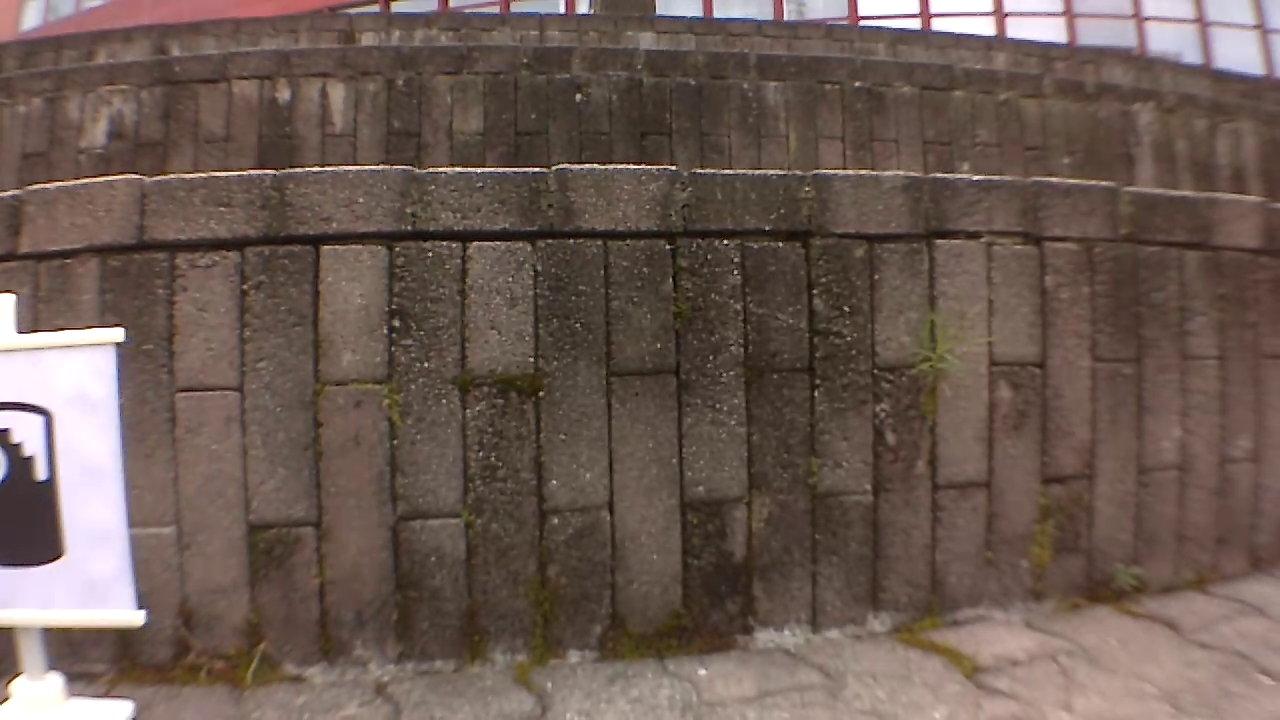bucket: (0, 391, 86, 605)
